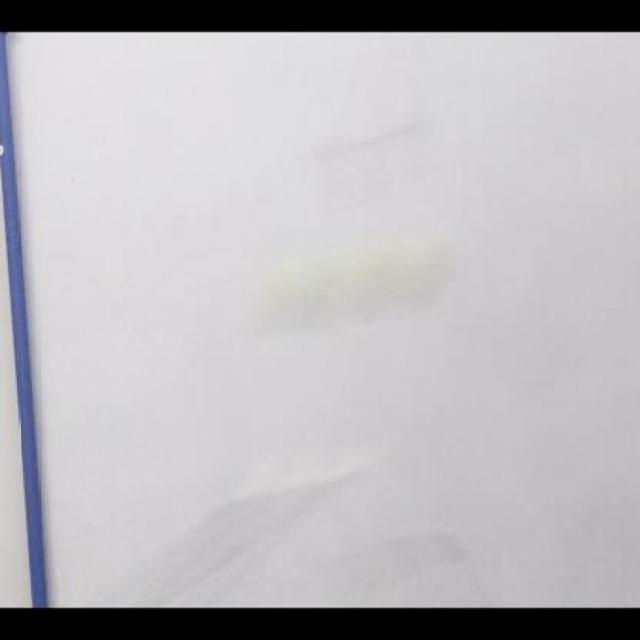baseball: (243, 232, 454, 334)
